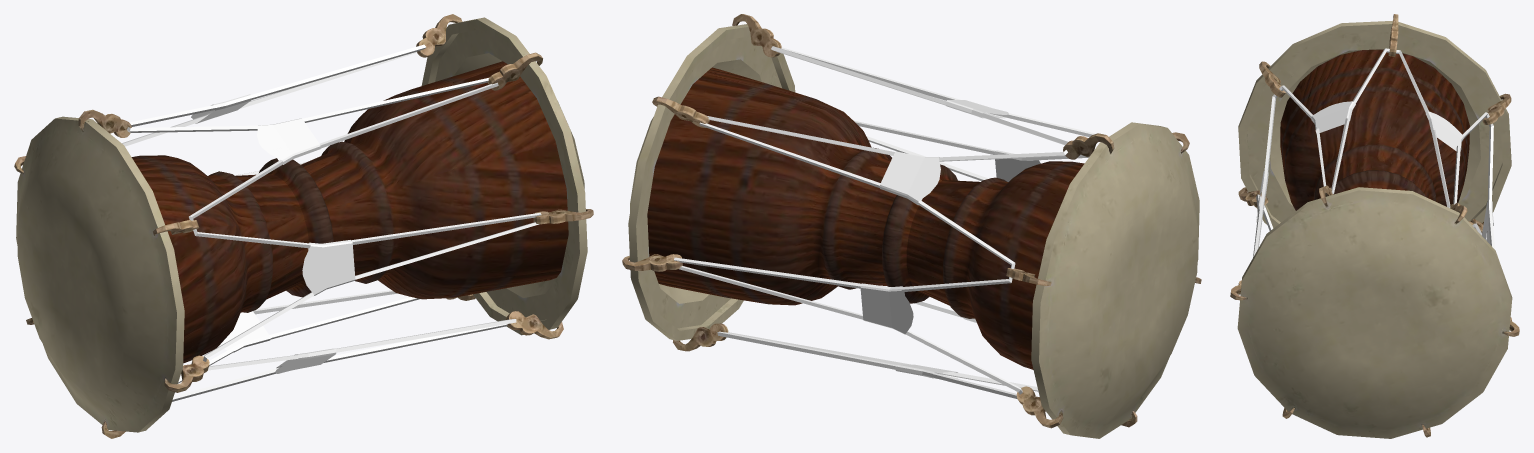
The model's file is musokjanggu.glb.
3 views of the same model, side by side, from view 1: azimuth 30°, elevation 25°; view 2: azimuth 150°, elevation 25°; view 3: azimuth 270°, elevation 25° (orthographic). The views are drawn at different scales.
Parts seen in each view (by area): view 1: Janggu-Body_LoRes; view 2: Janggu-Body_LoRes; view 3: Janggu-Body_LoRes.
Part boxes in pixels (<box>): Janggu-Body_LoRes: <box>14,14,593,438</box>; Janggu-Body_LoRes: <box>622,14,1201,438</box>; Janggu-Body_LoRes: <box>1230,14,1519,438</box>.
Bounding box in the file's own units: 0.7951 × 0.513 × 0.513.
Materials: 3 (2 with a texture image).
